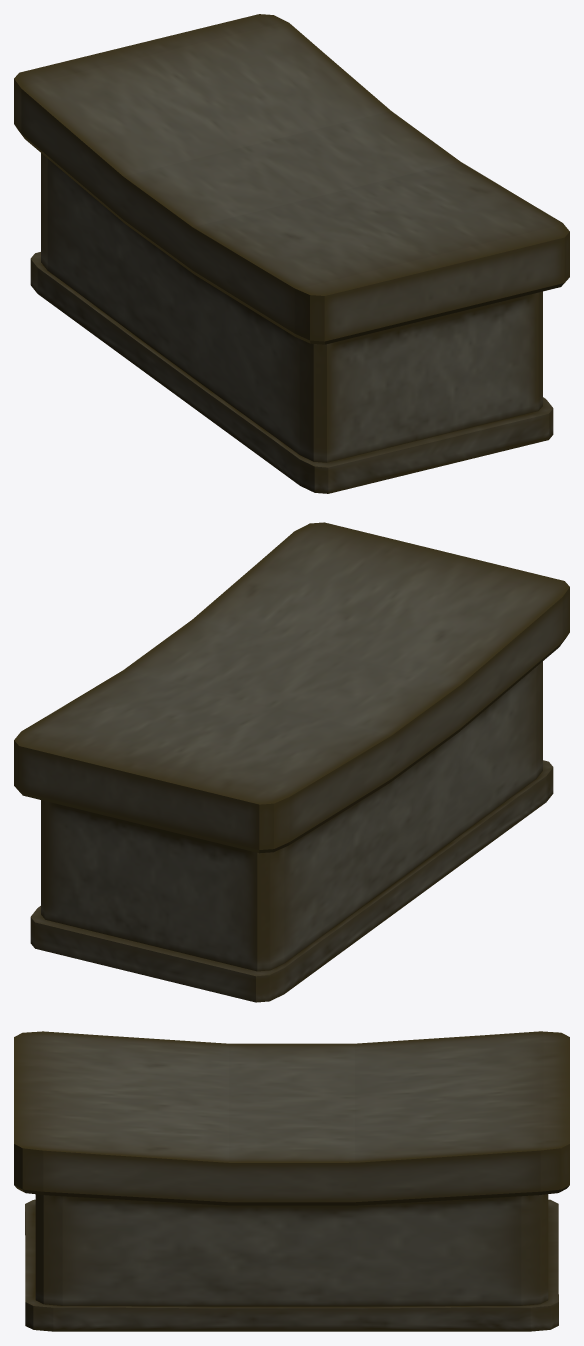
File: Crypt_Tomb.fbx
The picture shows the model from 3 angles, top to bottom: view 1: azimuth 30°, elevation 25°; view 2: azimuth 150°, elevation 25°; view 3: azimuth 270°, elevation 25°; orthographic projection. The views are drawn at different scales.
Parts seen in each view (by area): view 1: Crypt_Tomb; view 2: Crypt_Tomb; view 3: Crypt_Tomb.
Boxes of the visible parts, left/top/right/bottom form: Crypt_Tomb: left=14, top=14, right=569, bottom=493; Crypt_Tomb: left=14, top=522, right=569, bottom=1002; Crypt_Tomb: left=14, top=1031, right=569, bottom=1331.
Bounding box in the file's own units: 110 × 80.28 × 217.
